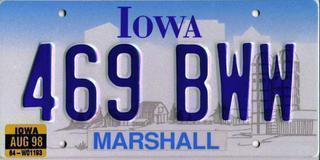placa de veiculo: (6, 0, 318, 159)
